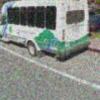buses: (0, 0, 91, 61)
